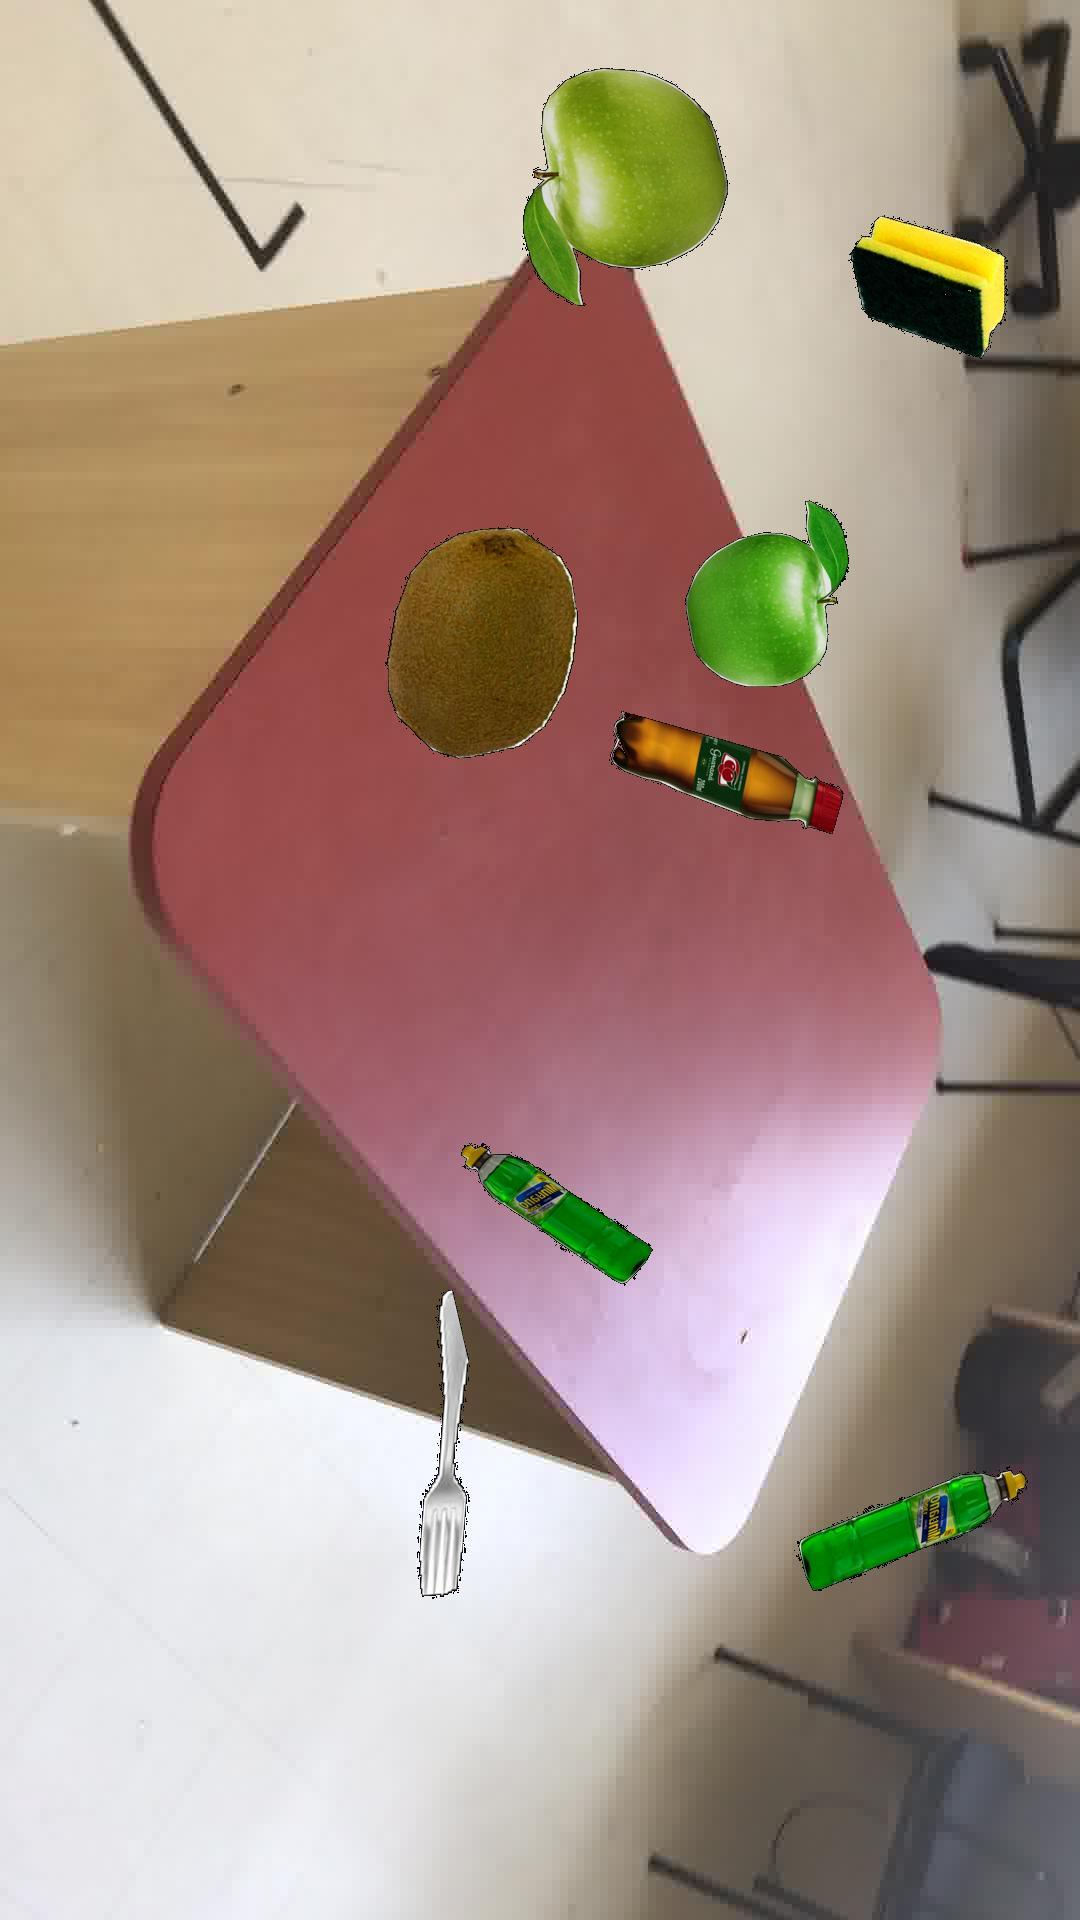cleaner: (795, 1469, 1026, 1589), (459, 1142, 651, 1284)
fork: (415, 1288, 468, 1596)
green apple: (521, 66, 727, 305), (683, 498, 848, 686)
guarana: (608, 709, 843, 832)
kiwi: (384, 526, 576, 757)
sponge: (848, 214, 1007, 357)
